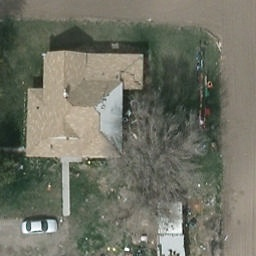car: (22, 217, 58, 234)
